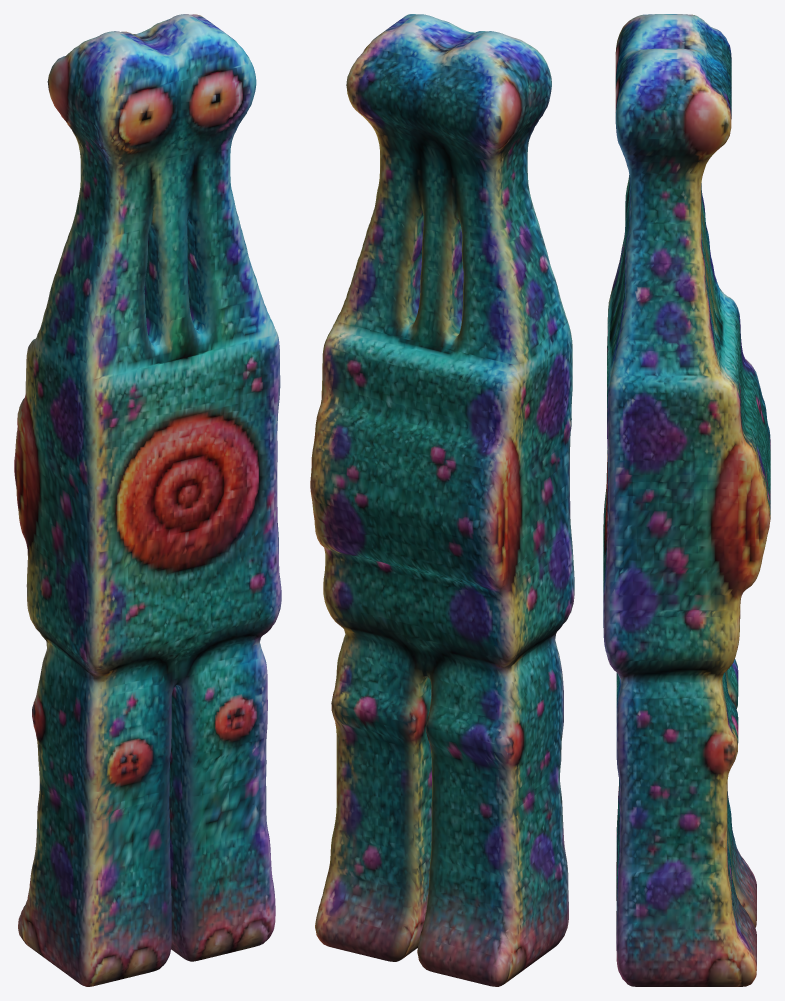
Rendered from 03-slakkenoog-blauw.glb.
3 renders of one model, left to right at view 1: azimuth 30°, elevation 25°; view 2: azimuth 150°, elevation 25°; view 3: azimuth 270°, elevation 25°, orthographic.
Parts seen in each view (by area): view 1: 03-slakkenoog-blauw-voorkant-zijkant-achterkant; view 2: 03-slakkenoog-blauw-voorkant-zijkant-achterkant; view 3: 03-slakkenoog-blauw-voorkant-zijkant-achterkant.
Boxes of the visible parts, x1,y1,x2,y2 form: 03-slakkenoog-blauw-voorkant-zijkant-achterkant: (14,14,281,986); 03-slakkenoog-blauw-voorkant-zijkant-achterkant: (310,14,574,986); 03-slakkenoog-blauw-voorkant-zijkant-achterkant: (603,14,770,986).
Size of the model in its own units: 0.5292 by 2.4 by 0.3987.
